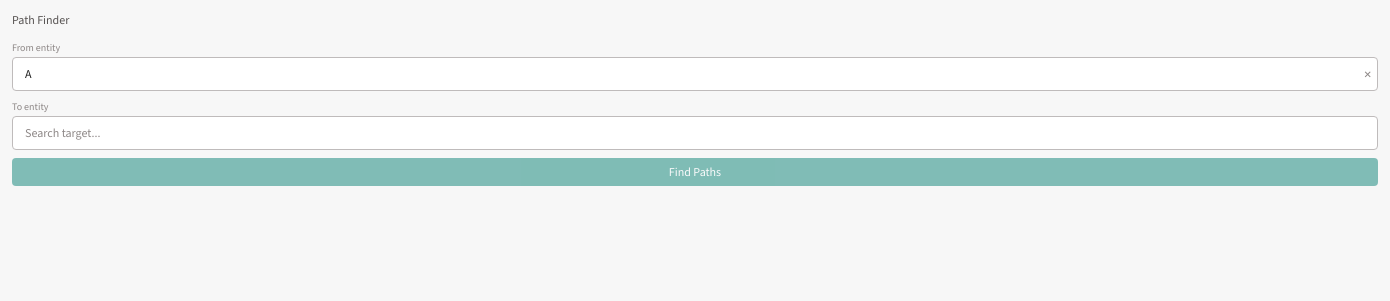
Test: PathFinder target list › keeps the found count when only some paths are hidden
Focus the dropdown with placeholder "Search target...": coordinates (695, 133) left=12, top=116, right=1378, bottom=150
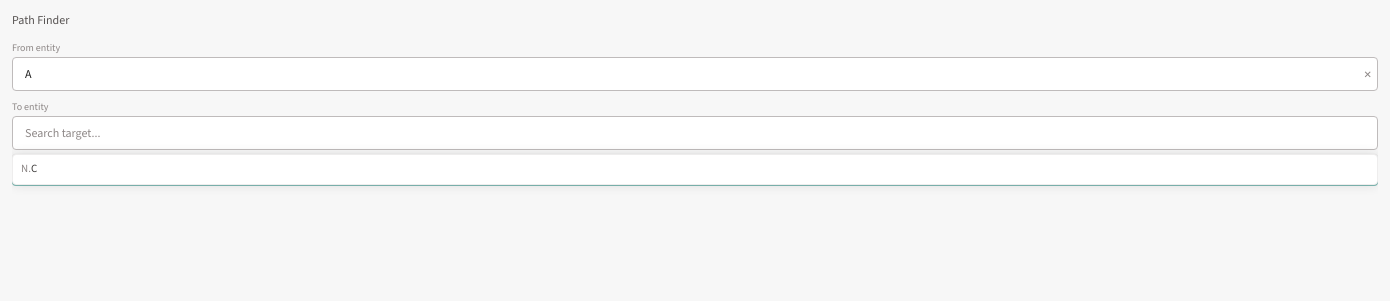
Press the mouse on the option "N.C": coordinates (25, 168) left=13, top=155, right=1377, bottom=184
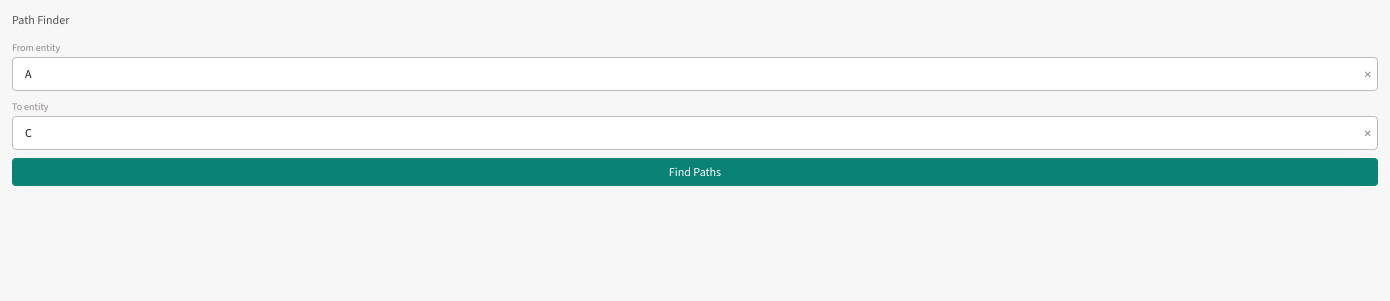
Click the button "Find Paths": coordinates (695, 172) left=12, top=158, right=1378, bottom=186
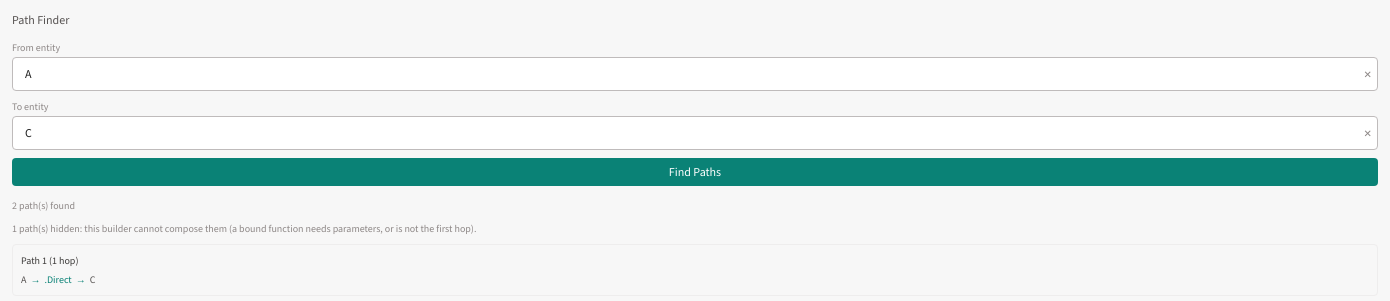
Result: the text "2 path(s) found" is shown at left=12, top=199, right=75, bottom=212
Result: the text "1 path(s) hidden" is shown at left=12, top=222, right=476, bottom=235
Result: the text "Path 1 (1 hop)" is shown at left=21, top=254, right=78, bottom=267
